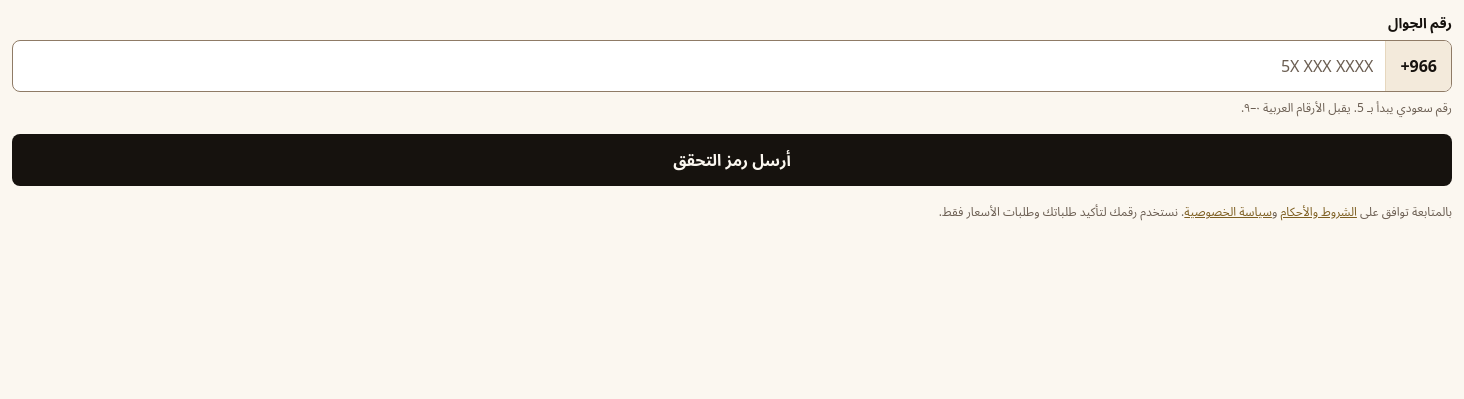
Test: CustomerLoginForm › 428 CHALLENGE_REQUIRED: solves the proof-of-work and resends with captcha
Type "551234567" into the field labelled "رقم الجوال" at [699, 66], box [13,41,1385,91]
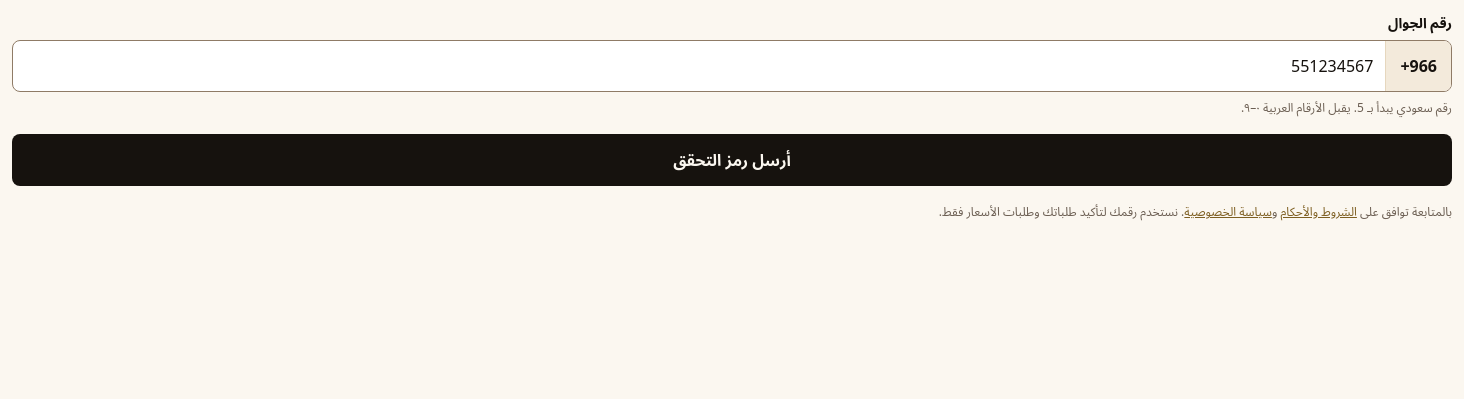
Click the button "أرسل رمز التحقق" at [732, 160], box [12,134,1452,186]
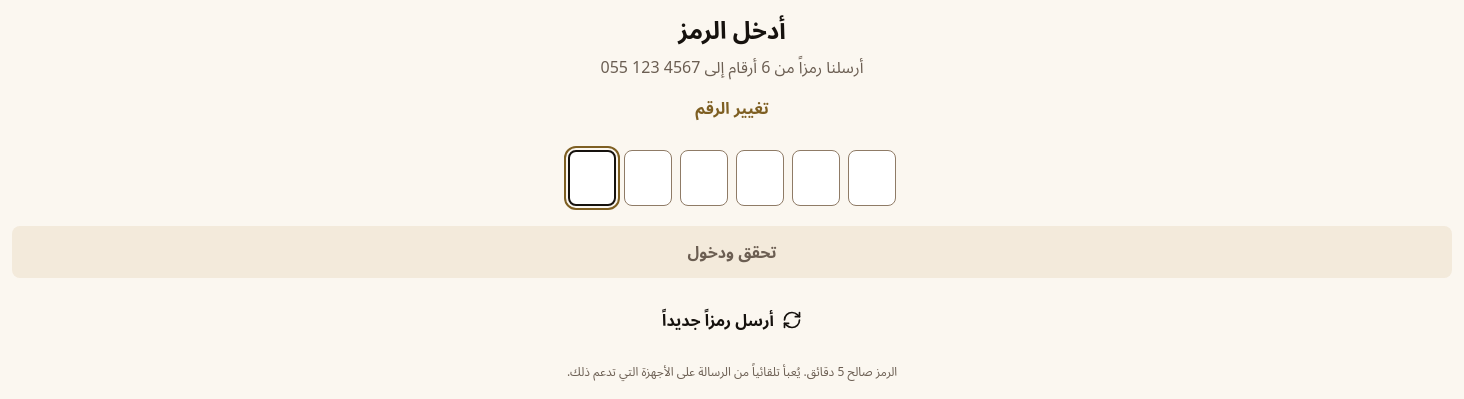
Now the heading "أدخل الرمز" is shown, box [678,12,786,48]
